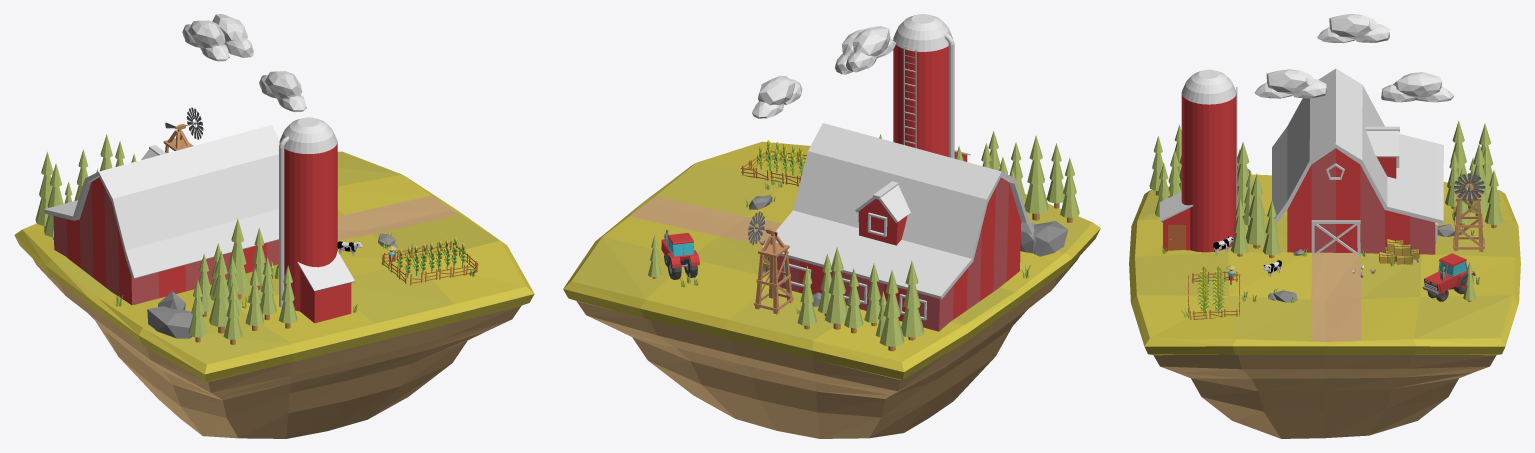
Rendered from farm.fbx.
3 views of the same model, side by side, from view 1: azimuth 30°, elevation 25°; view 2: azimuth 150°, elevation 25°; view 3: azimuth 270°, elevation 25° (orthographic). The views are drawn at different scales.
Parts seen in each view (by area): view 1: Ground, Barn, Tower, Clouds, Plants, rock.006, Tree.021, Fence, Wind_mill, Tree.022, Tree.018, Tree.019 (+6 smaller); view 2: Ground, Barn, Tower, Clouds, Wind_mill, tractor, Tree.021, Tree.018, Tree.007, Tree.017, rock.006, Plants (+6 smaller); view 3: Ground, Barn, Tower, Clouds, Wind_mill, tractor, Tree, Plants, Hay, Tree.007, Tree.001, Tree.006 (+7 smaller).
Part boxes in pixels (x1=…): Ground: x1=14, y1=151, x2=534, y2=438; Barn: x1=44, y1=125, x2=279, y2=305; Tower: x1=279, y1=117, x2=354, y2=323; Clouds: x1=182, y1=14, x2=306, y2=112; Plants: x1=396, y1=237, x2=466, y2=277; rock.006: x1=147, y1=306, x2=192, y2=338; Tree.021: x1=209, y1=251, x2=229, y2=333; Fence: x1=381, y1=241, x2=478, y2=285; Wind_mill: x1=163, y1=107, x2=203, y2=152; Tree.022: x1=227, y1=218, x2=249, y2=299; Tree.018: x1=35, y1=152, x2=53, y2=229; Tree.019: x1=223, y1=282, x2=242, y2=344; Ground: x1=563, y1=141, x2=1100, y2=438; Barn: x1=762, y1=123, x2=1034, y2=331; Tower: x1=893, y1=14, x2=970, y2=161; Clouds: x1=752, y1=26, x2=896, y2=118; Wind_mill: x1=748, y1=211, x2=793, y2=314; tractor: x1=661, y1=230, x2=699, y2=279; Tree.021: x1=1024, y1=135, x2=1048, y2=220; Tree.018: x1=879, y1=270, x2=904, y2=351; Tree.007: x1=825, y1=247, x2=847, y2=329; Tree.017: x1=901, y1=260, x2=924, y2=340; rock.006: x1=1033, y1=221, x2=1068, y2=256; Plants: x1=757, y1=140, x2=808, y2=175; Ground: x1=1129, y1=174, x2=1520, y2=438; Barn: x1=1272, y1=68, x2=1443, y2=254; Tower: x1=1159, y1=69, x2=1237, y2=252; Clouds: x1=1254, y1=14, x2=1453, y2=102; Wind_mill: x1=1453, y1=172, x2=1485, y2=251; tractor: x1=1422, y1=253, x2=1475, y2=301; Tree: x1=1246, y1=173, x2=1267, y2=248; Plants: x1=1197, y1=265, x2=1224, y2=315; Hay: x1=1379, y1=239, x2=1419, y2=264; Tree.007: x1=1468, y1=143, x2=1489, y2=216; Tree.001: x1=1262, y1=200, x2=1280, y2=258; Tree.006: x1=1485, y1=170, x2=1502, y2=228.
Bounding box in the file's own units: 123 × 124 × 120.
